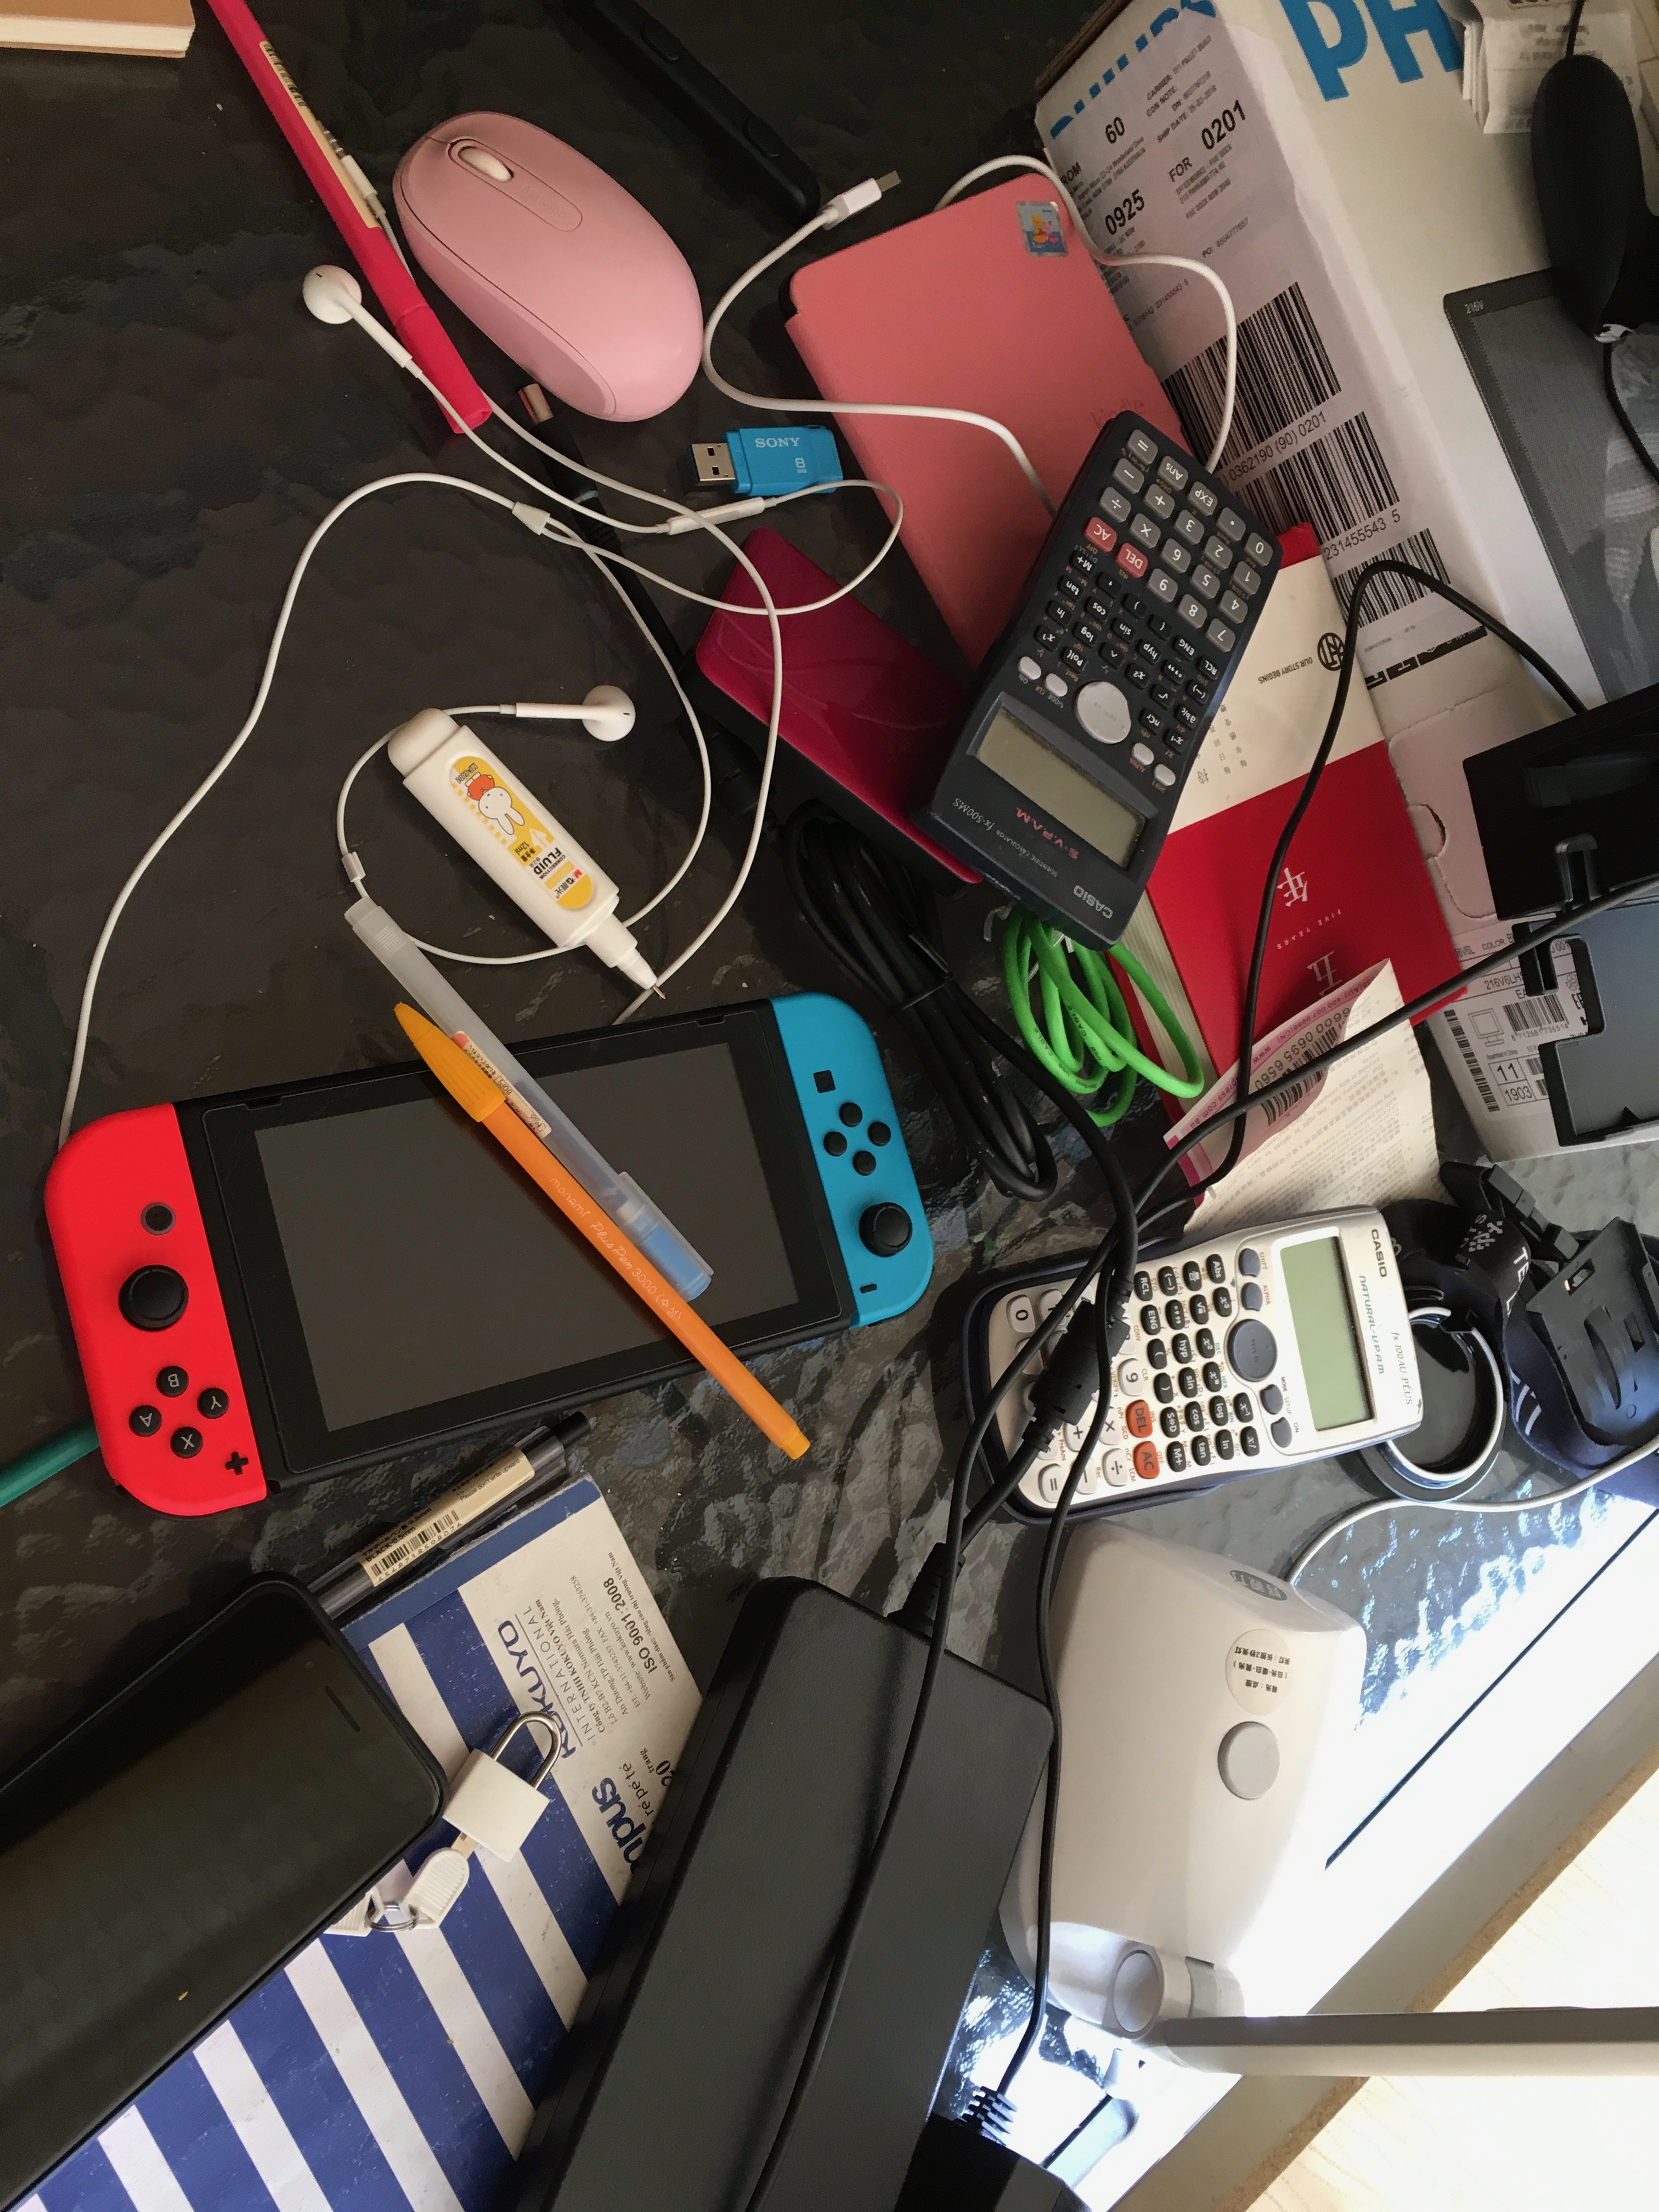Calculator: (903, 408, 1295, 961), (946, 1188, 1441, 1545)
NintendoSwitch: (35, 986, 943, 1531)
